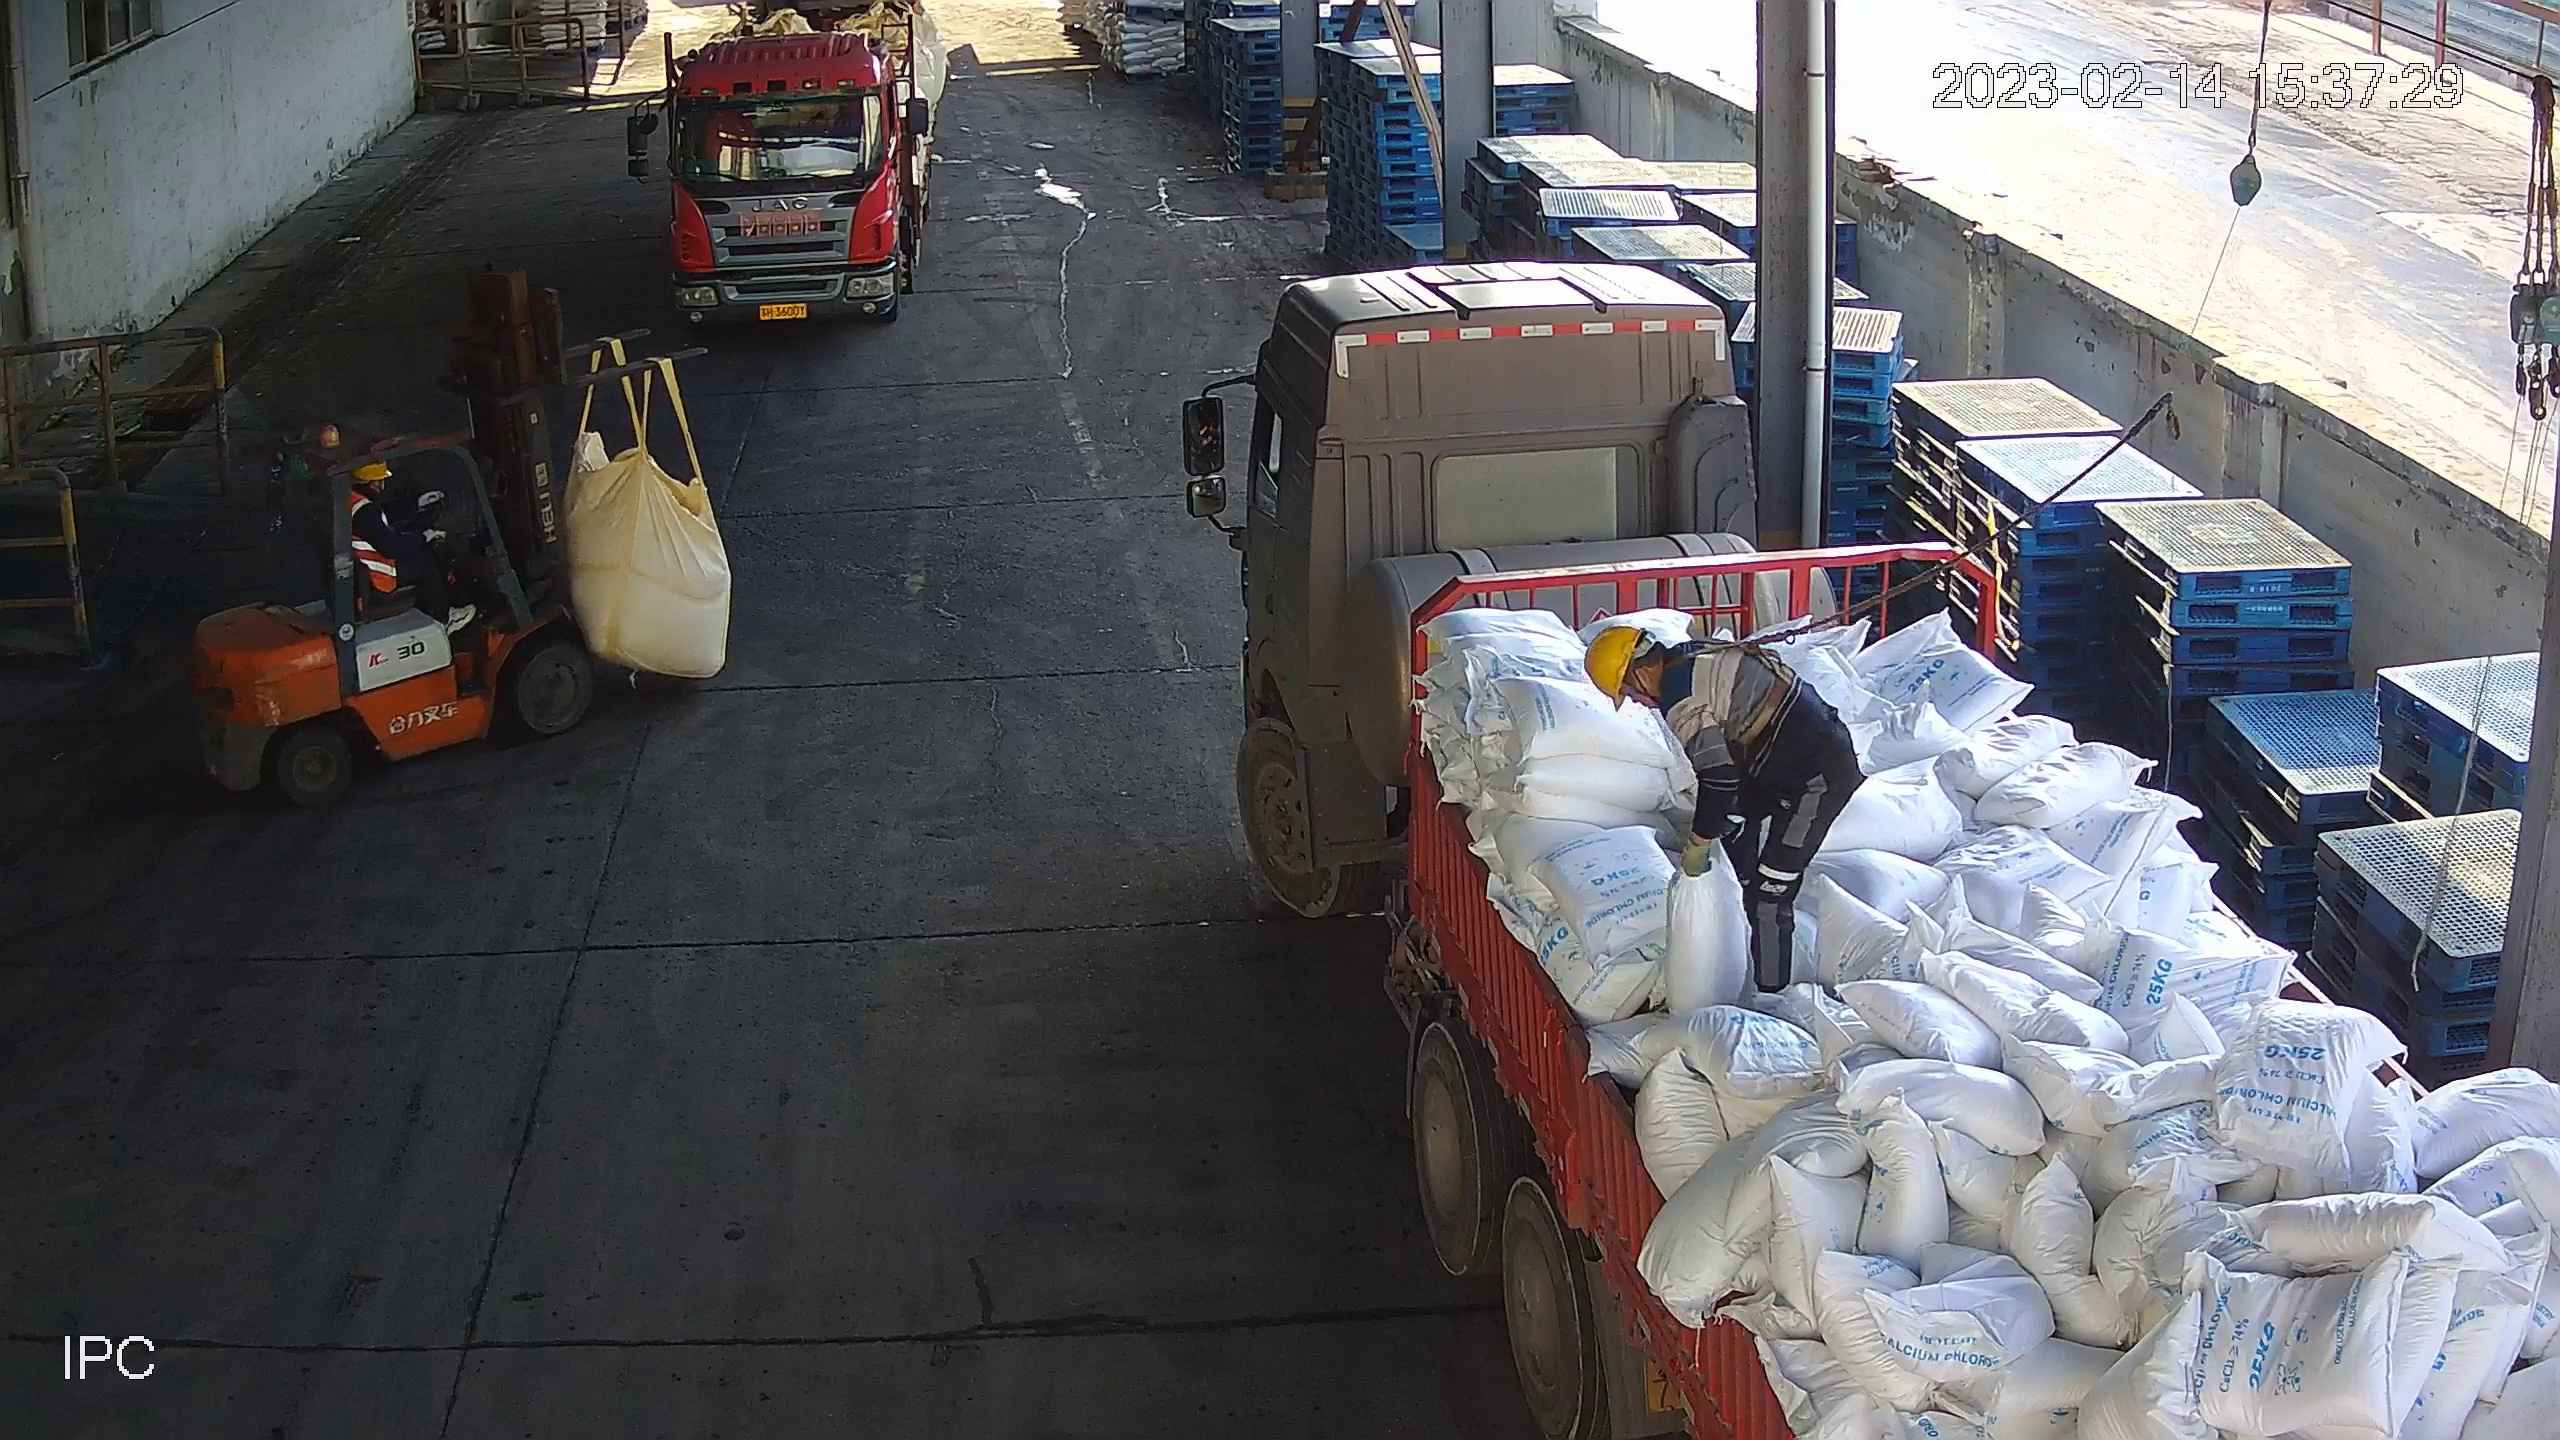belt: (1701, 636, 1788, 736)
head: (1604, 622, 1769, 776), (353, 456, 399, 529)
helmet: (1583, 616, 1640, 704)
people: (1594, 620, 1865, 994), (344, 454, 459, 604)
truck: (1186, 241, 2560, 1440), (626, 1, 944, 334)
